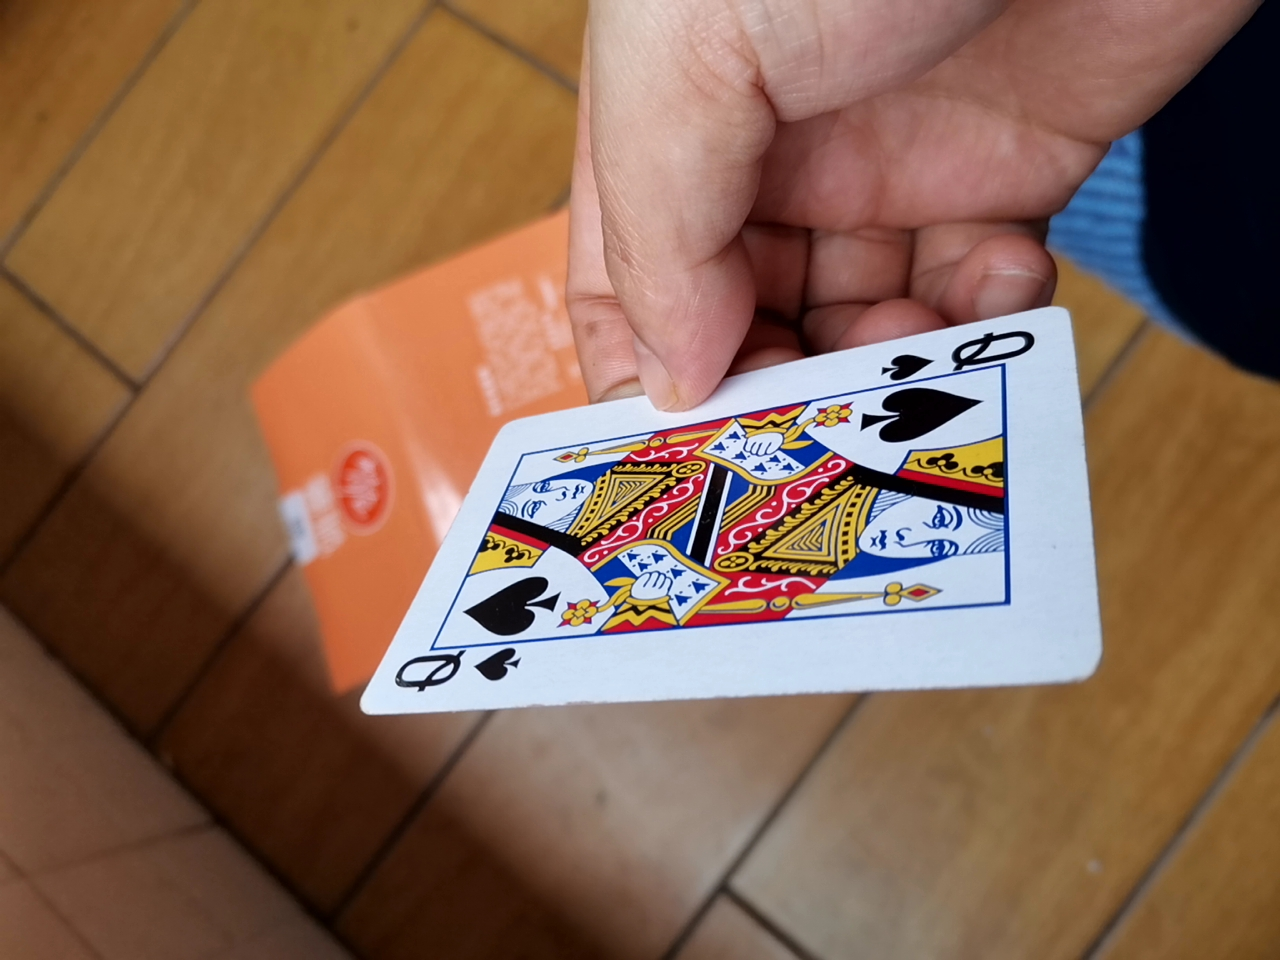ht q: (331, 319, 1104, 728)
